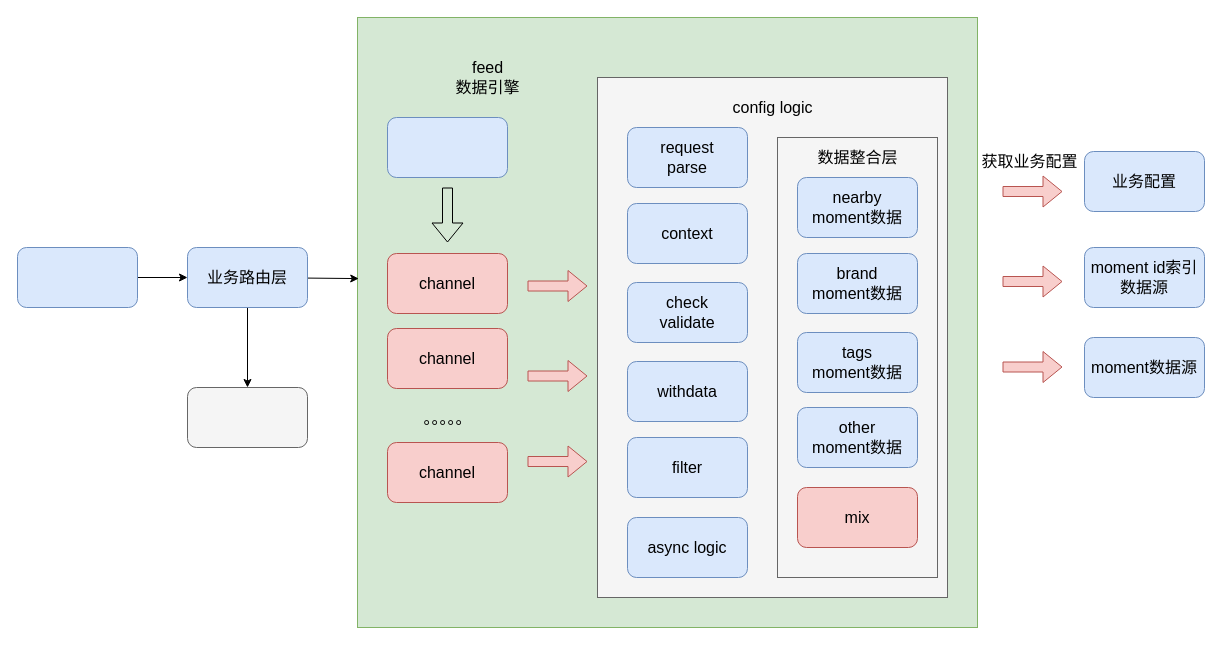
The diagram is 1222 pixels wide and 645 high, and some of its shapes have lost their labels. The centre of each missing label's shape, as x and y in pixels:
"channel 路由" belongs at point (447, 147).
"接口调用方" belongs at point (77, 277).
"独立逻辑 兼容模式" belongs at point (247, 417).
